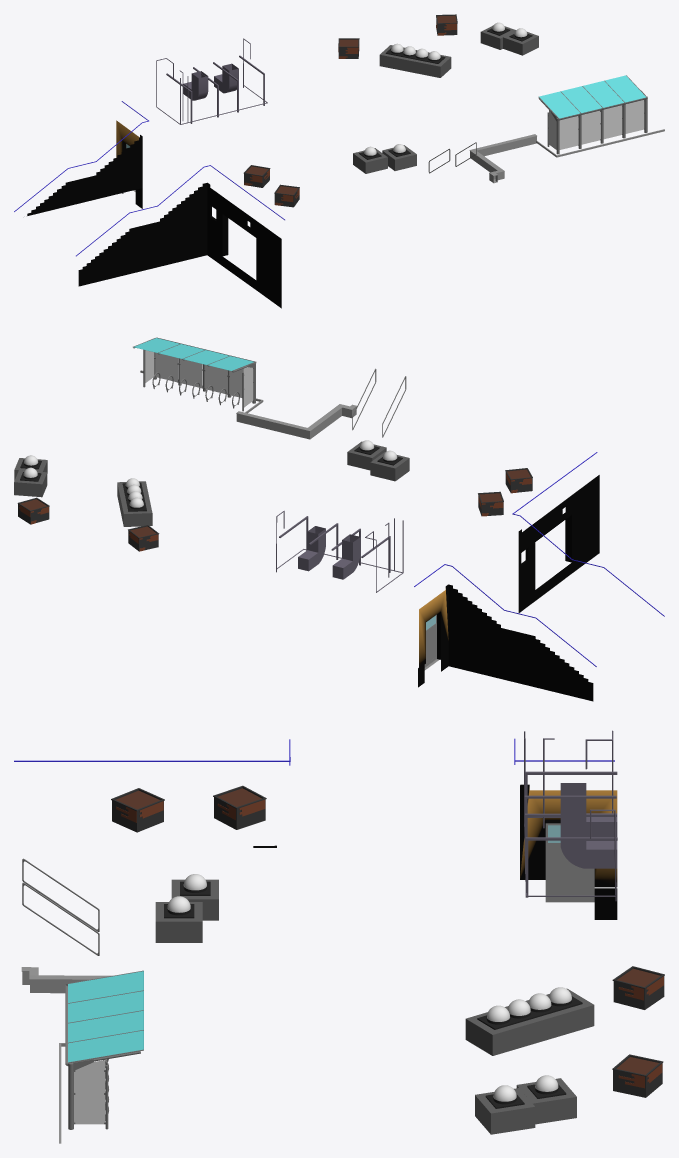
File: Terasa_Collision.fbx
3 views of the same model, one above another, from view 1: azimuth 30°, elevation 25°; view 2: azimuth 150°, elevation 25°; view 3: azimuth 270°, elevation 25° (orthographic). The views are drawn at different scales.
Parts seen in each view (by area): view 1: steny_spodok.006, bicykle, slnko_lampa_x4_1, ventilator_big.002, obrubnik_1, ventilator_big.001, slnko_lampa_2, slnko_lampa_3, slnko_lampa_4, steny_spodok.021, slnko_lampa_1, kvetinac_3 (+3 smaller); view 2: steny_spodok.006, bicykle, ventilator_big.002, obrubnik_1, slnko_lampa_x4_1, ventilator_big.001, slnko_lampa_3, slnko_lampa_1, slnko_lampa_4, steny_spodok.021, kvetinac_1, kvetinac_2 (+3 smaller); view 3: bicykle, slnko_lampa_x4_1, steny_spodok.006, ventilator_big.002, steny_spodok.004, slnko_lampa_2, ventilator_big.001, slnko_lampa_4, slnko_lampa_1, kvetinac_3, kvetinac_2, kvetinac_4 (+5 smaller).
Boxes of the visible parts, x1,y1,x2,y2 form: steny_spodok.006: (27, 120, 281, 308); bicykle: (538, 75, 647, 154); slnko_lampa_x4_1: (379, 43, 451, 77); ventilator_big.002: (156, 58, 238, 124); obrubnik_1: (469, 134, 536, 183); ventilator_big.001: (156, 38, 267, 124); slnko_lampa_2: (503, 28, 538, 55); slnko_lampa_3: (353, 146, 387, 173); slnko_lampa_4: (382, 144, 416, 170); steny_spodok.021: (14, 101, 284, 256); slnko_lampa_1: (480, 22, 515, 49); kvetinac_3: (243, 165, 270, 187); steny_spodok.006: (418, 475, 599, 701); bicykle: (133, 337, 256, 411); ventilator_big.002: (298, 518, 403, 592); obrubnik_1: (236, 404, 356, 439); slnko_lampa_x4_1: (117, 478, 152, 526); ventilator_big.001: (276, 510, 403, 592); slnko_lampa_3: (370, 450, 409, 481); slnko_lampa_1: (14, 467, 47, 497); slnko_lampa_4: (347, 440, 386, 470); steny_spodok.021: (414, 452, 664, 666); kvetinac_1: (17, 497, 49, 524); kvetinac_2: (128, 525, 159, 551); bicykle: (65, 970, 143, 1129); slnko_lampa_x4_1: (465, 987, 594, 1055); steny_spodok.006: (253, 784, 617, 919); ventilator_big.002: (524, 730, 617, 868); steny_spodok.004: (545, 823, 594, 902); slnko_lampa_2: (475, 1085, 535, 1134); ventilator_big.001: (524, 771, 617, 901); slnko_lampa_4: (155, 896, 202, 942); slnko_lampa_1: (516, 1075, 576, 1124); kvetinac_3: (213, 785, 266, 829); kvetinac_2: (612, 966, 664, 1009); kvetinac_4: (111, 788, 164, 832).
Size of the model in its own units: 3849 by 844 by 2228.
